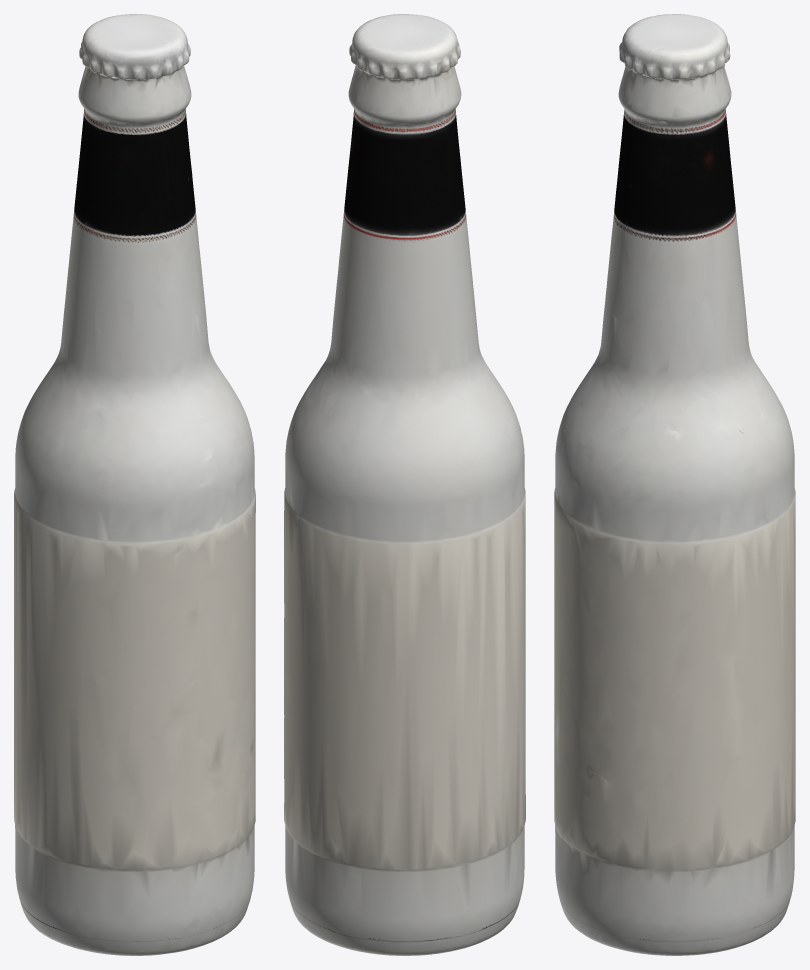
The model's file is beer.glb.
The picture shows the model from 3 angles, left to right: view 1: azimuth 30°, elevation 25°; view 2: azimuth 150°, elevation 25°; view 3: azimuth 270°, elevation 25°; orthographic projection.
Visible parts, largest first — view 1: Mesh_0; view 2: Mesh_0; view 3: Mesh_0.
Part boxes in pixels (bbox=[...]): Mesh_0: bbox=[14, 14, 255, 955]; Mesh_0: bbox=[284, 14, 525, 955]; Mesh_0: bbox=[554, 14, 795, 955].
Bounding box in the file's own units: 15571 × 62649 × 15571.
1 material, 1 textured.
